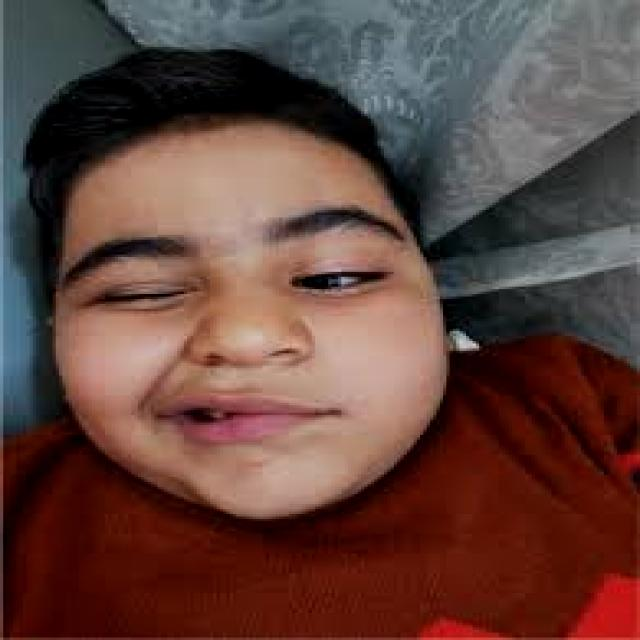stroke_face: (15, 59, 517, 516)
